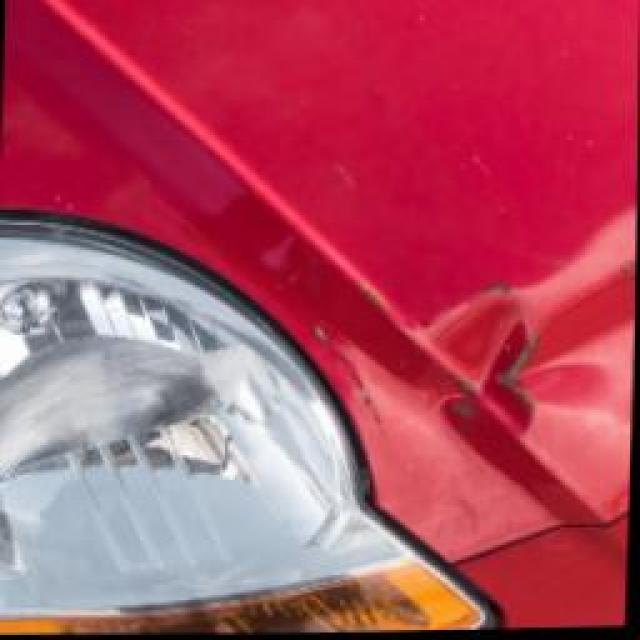Bonnet: (165, 138, 639, 531)
